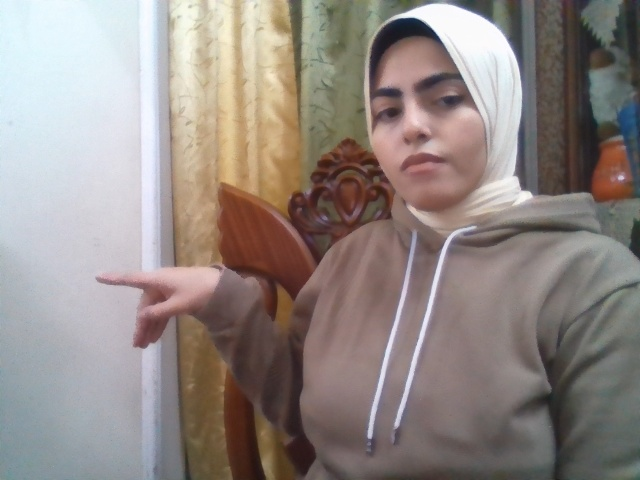P: (94, 267, 217, 349)
